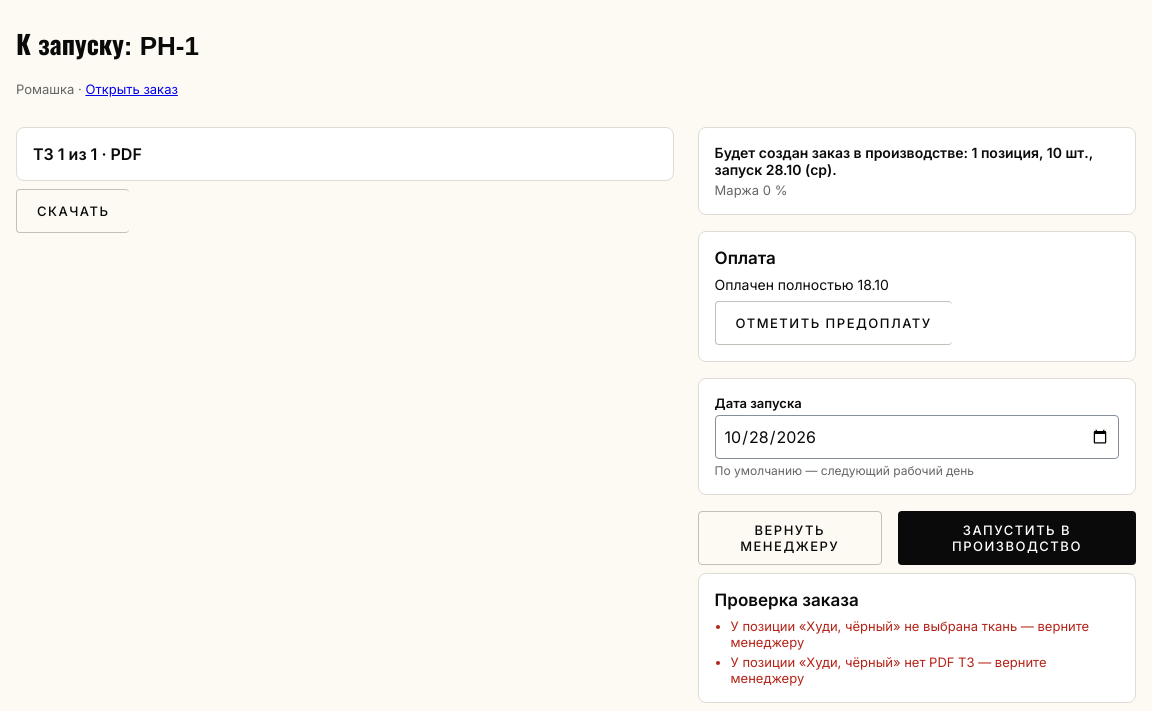
LaunchScreen › ход запуска — по шагам в aria-live
What coordinates should you click on to do the following:
click the button "Запустить в производство"
I would click on:
 (1017, 538)
Its box is [898,511,1136,565].
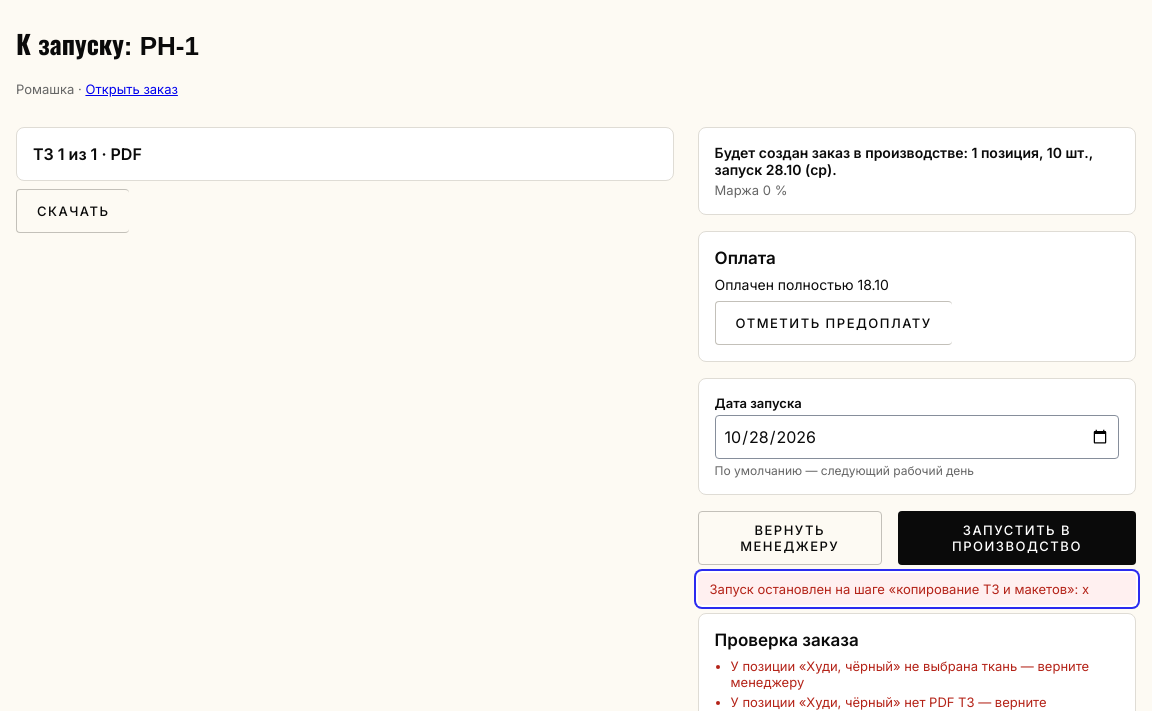
Now the message "Запуск остановлен на шаге «копирование ТЗ и макетов»: x" is shown, box [698,573,1136,605]
